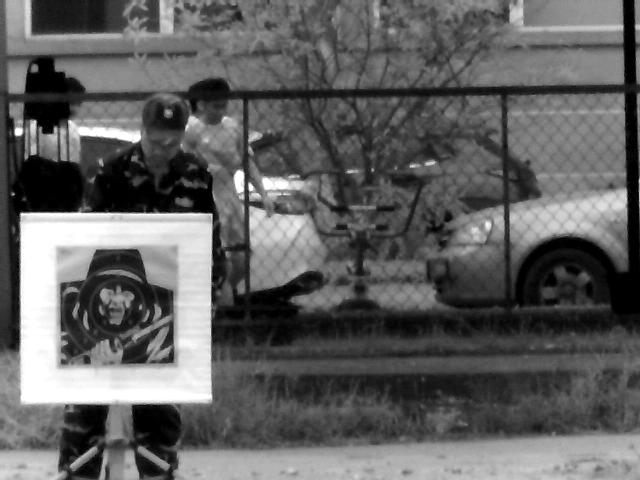bia: (57, 244, 176, 369)
chan: (46, 405, 183, 480)
